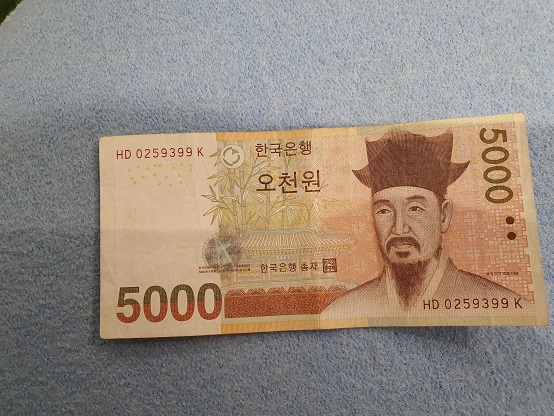5000won: (98, 114, 550, 341)
